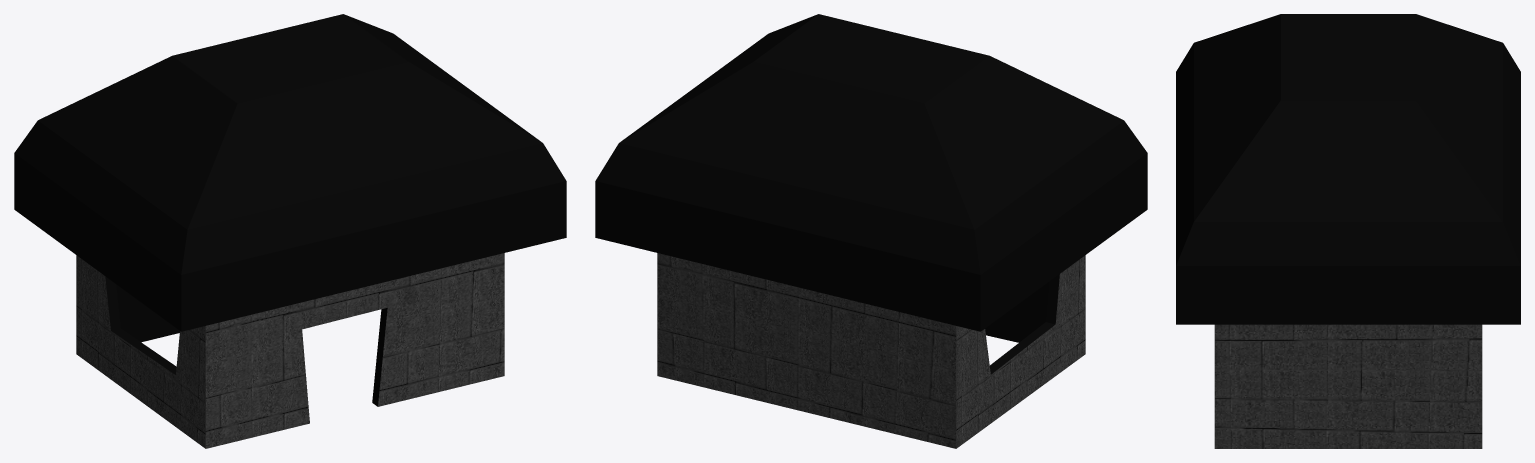
Rendered from SanguineHouse.dae.
3 renders of one model, left to right at view 1: azimuth 30°, elevation 25°; view 2: azimuth 150°, elevation 25°; view 3: azimuth 270°, elevation 25°, orthographic. The views are drawn at different scales.
Parts seen in each view (by area): view 1: House; view 2: House; view 3: House.
Boxes of the visible parts, x1=… form: House: x1=14, y1=14, x2=566, y2=448; House: x1=595, y1=14, x2=1147, y2=448; House: x1=1176, y1=14, x2=1520, y2=448.
Size of the model in its own units: 19.4 by 14.55 by 14.74.
